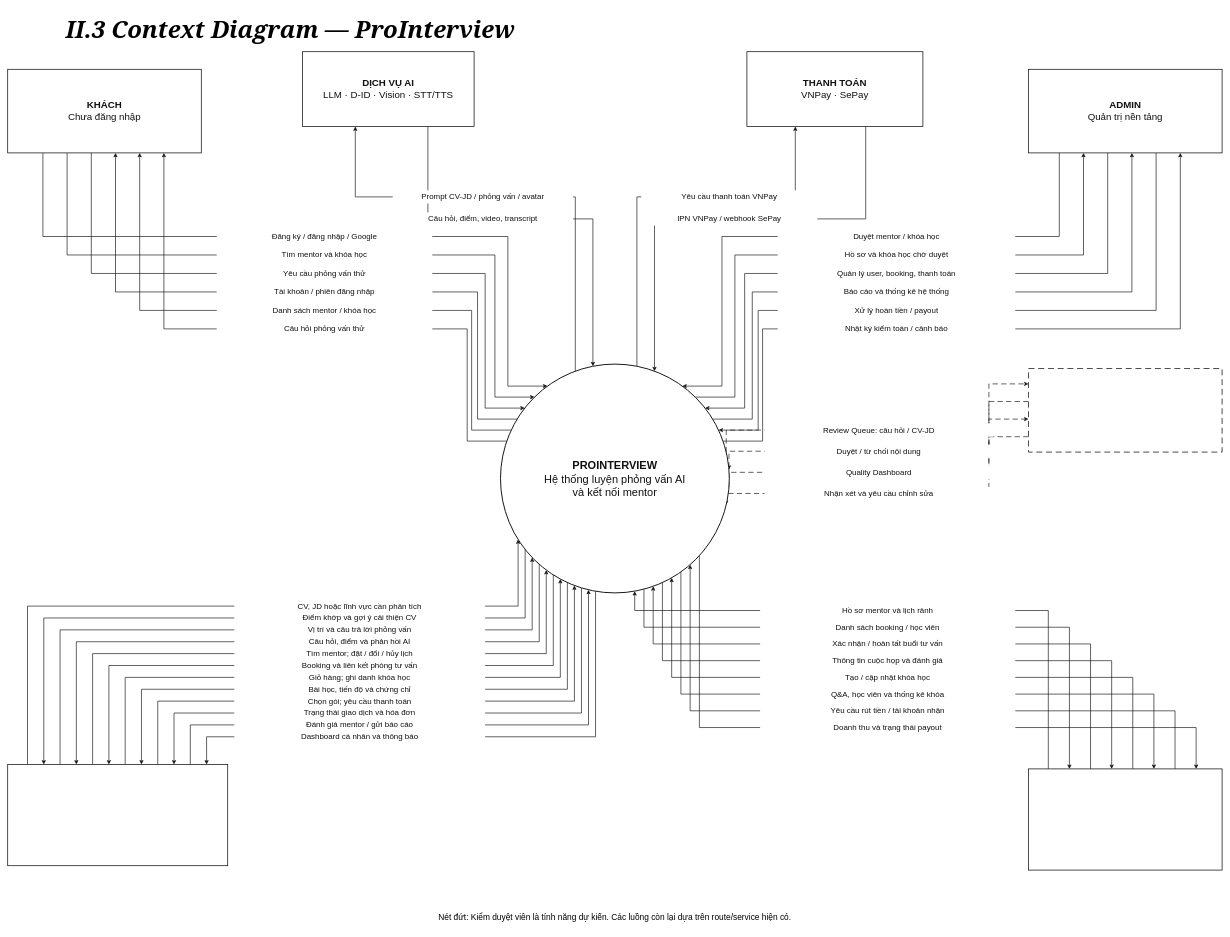
Some shapes in this 1230 by 937 pixel diagram are drawn without their labels. Here are the shapes that lost their labels. From the top down, the box of each, then its label:
(1028, 368, 1222, 452): KIỂM DUYỆT VIÊN Tính năng dự kiến
(7, 764, 228, 866): ỨNG VIÊN Tài khoản đã đăng nhập
(1028, 768, 1222, 870): MENTOR Tư vấn và tạo khóa học
